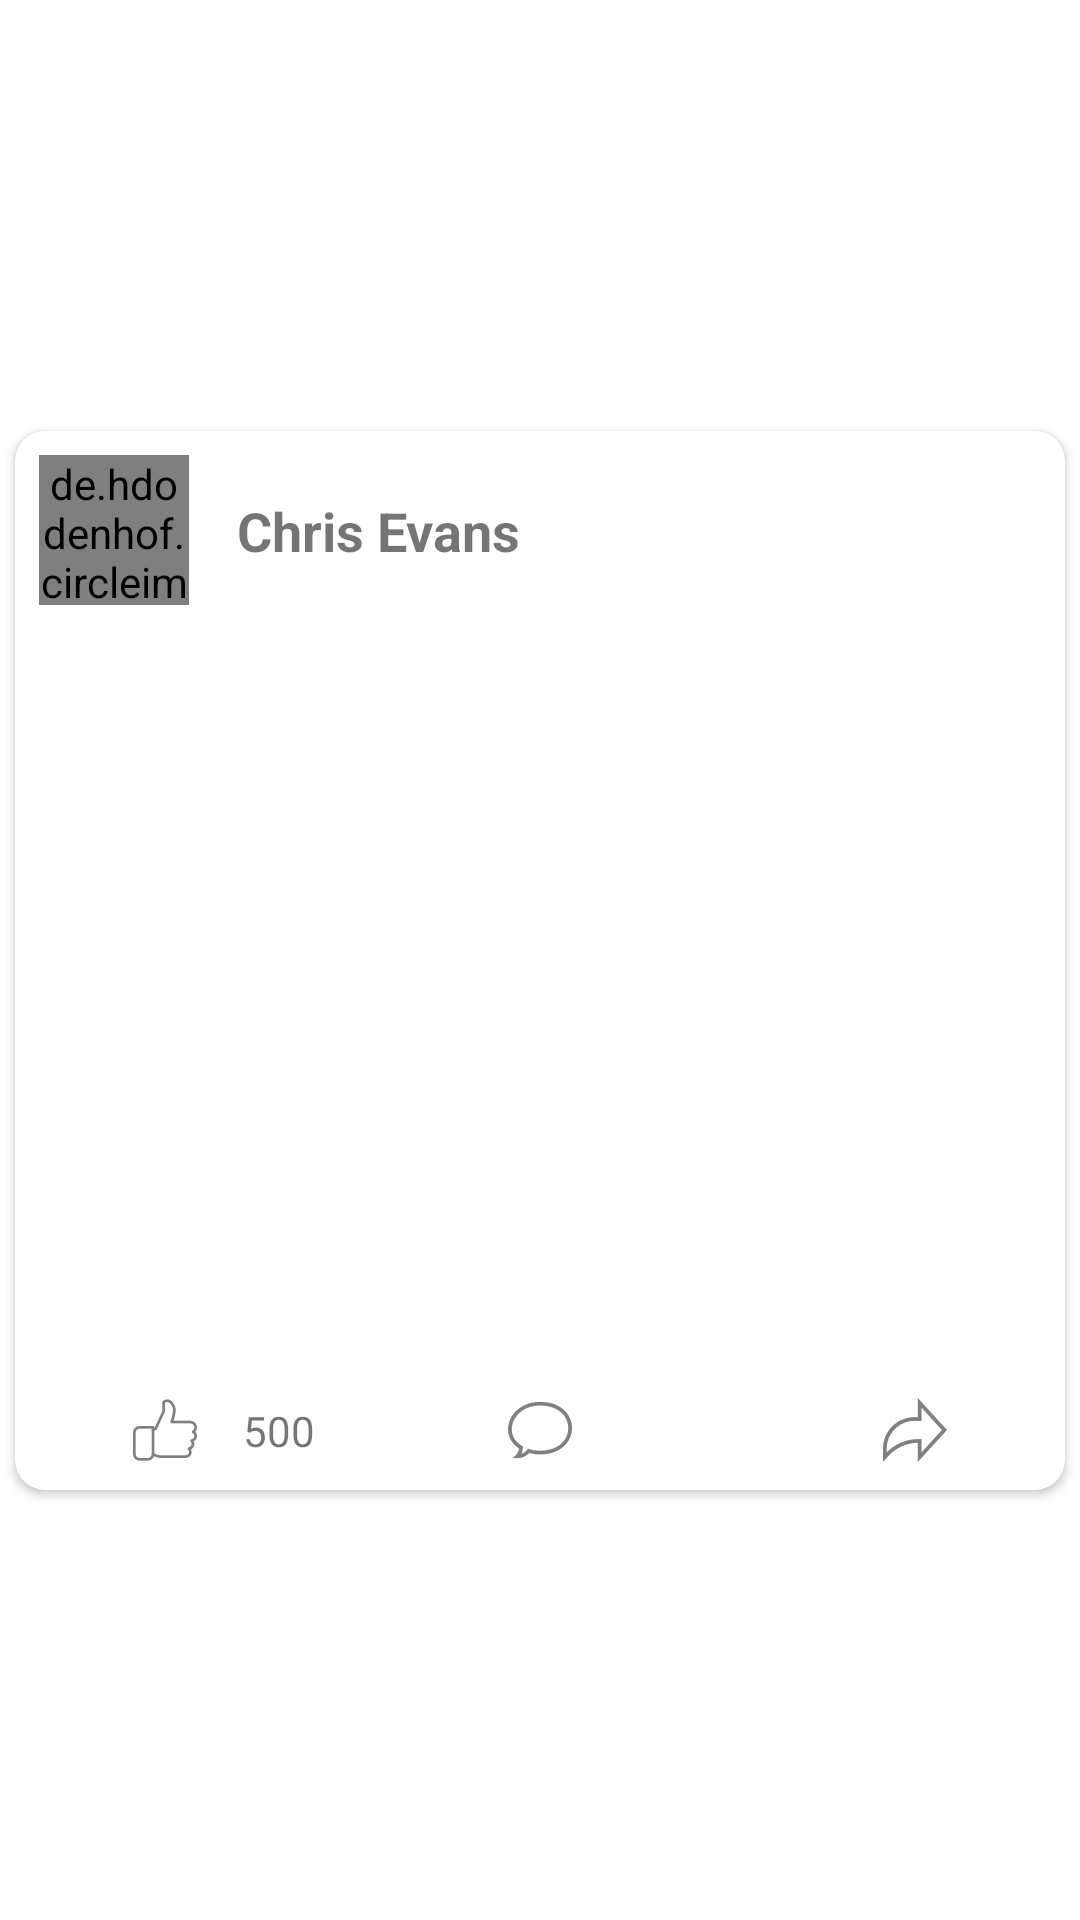

Icons on this 1080*1920 Android screen, each with its box as (x1, y1, x2, y2):
comment: (508, 1402, 572, 1459)
share: (883, 1398, 947, 1462)
